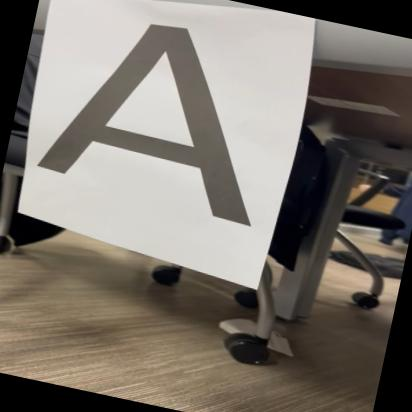seat: (28, 1, 300, 232)
